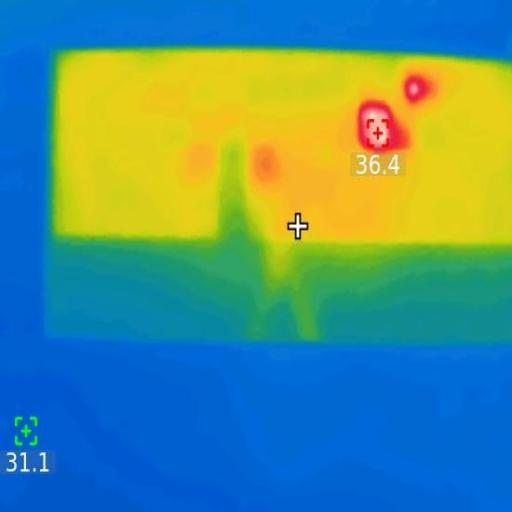hotspot: (362, 108, 393, 154), (405, 77, 426, 101)
